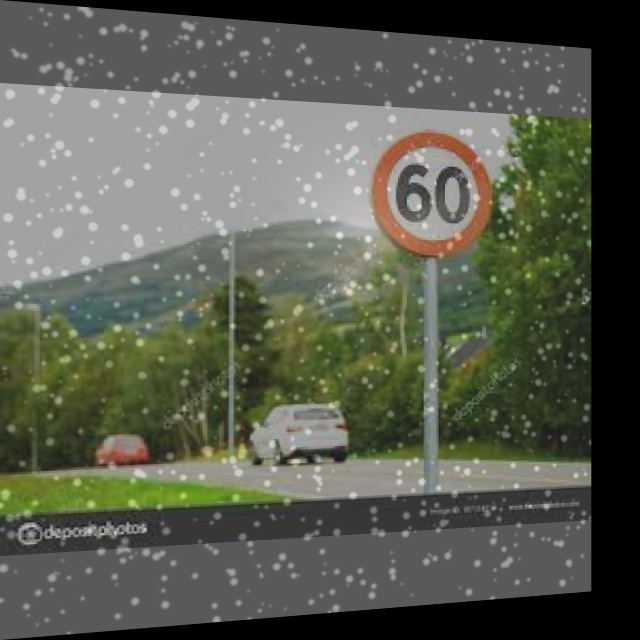Speed_Limit_60: (370, 124, 491, 256)
